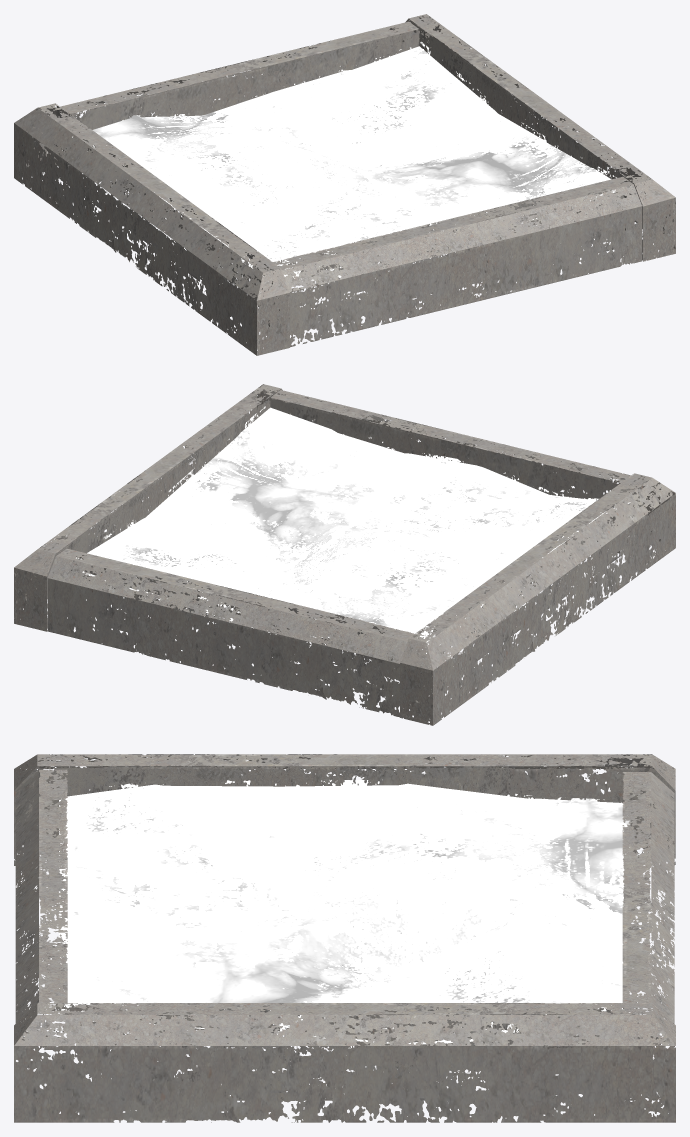
File: SM_curb_01.fbx
3 renders of one model, top to bottom at view 1: azimuth 30°, elevation 25°; view 2: azimuth 150°, elevation 25°; view 3: azimuth 270°, elevation 25°, orthographic. The views are drawn at different scales.
Visible parts, largest first — view 1: SM_curb_01_LOD0; view 2: SM_curb_01_LOD0; view 3: SM_curb_01_LOD0.
Part boxes in pixels (box(x1,y1,x2,y2)): SM_curb_01_LOD0: box(14, 14, 675, 355); SM_curb_01_LOD0: box(14, 384, 675, 725); SM_curb_01_LOD0: box(14, 754, 675, 1122).
Size of the model in its own units: 180 by 181 by 30.
Materials: 2 (1 with a texture image).
